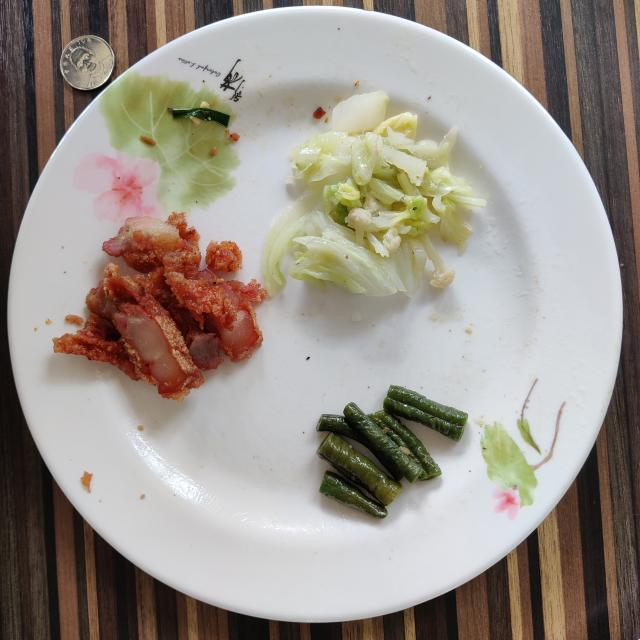cabbage: (262, 90, 486, 298)
coin: (60, 35, 115, 90)
red grilled pork: (54, 212, 266, 400)
